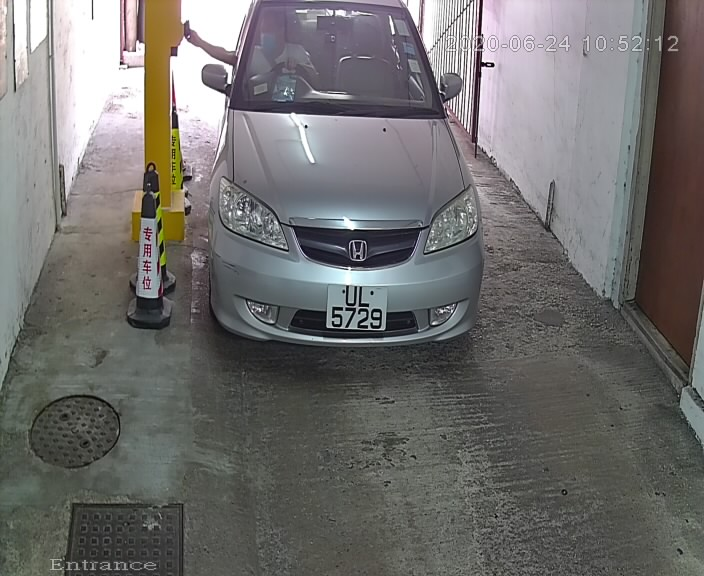Car: (193, 1, 498, 385)
License Plate: (324, 281, 392, 336)
